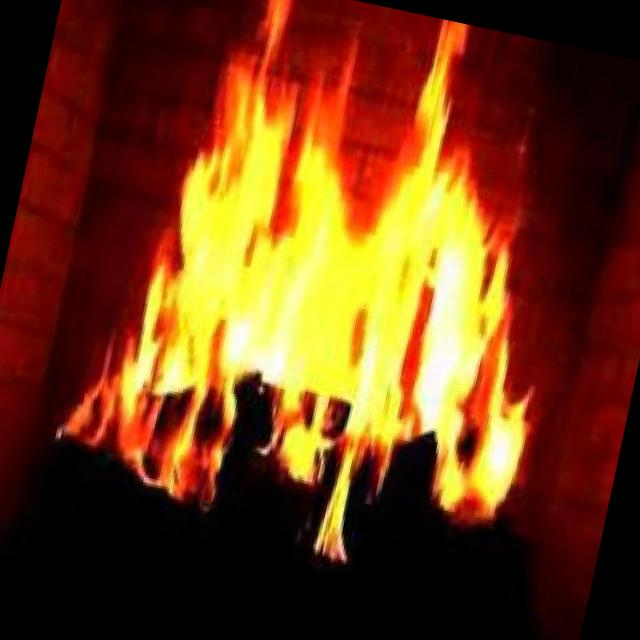Fire: (39, 0, 613, 595)
